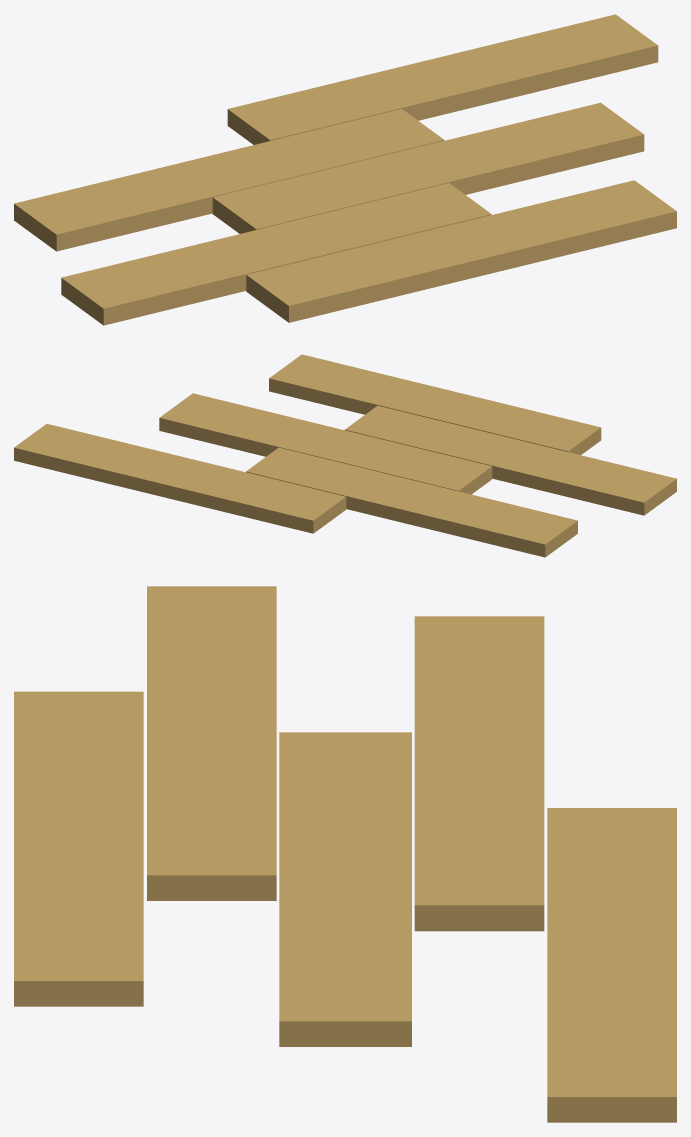
The model's file is floorWoodboardsSimple.gltf.
The picture shows the model from 3 angles, top to bottom: view 1: azimuth 30°, elevation 25°; view 2: azimuth 150°, elevation 25°; view 3: azimuth 270°, elevation 25°; orthographic projection. The views are drawn at different scales.
Parts seen in each view (by area): view 1: Cube.009; view 2: Cube.009; view 3: Cube.009.
Boxes of the visible parts, x1=… form: Cube.009: x1=14, y1=14, x2=676, y2=325; Cube.009: x1=14, y1=354, x2=676, y2=557; Cube.009: x1=14, y1=586, x2=676, y2=1122.
Size of the model in its own units: 18.13 by 0.4273 by 9.95.
